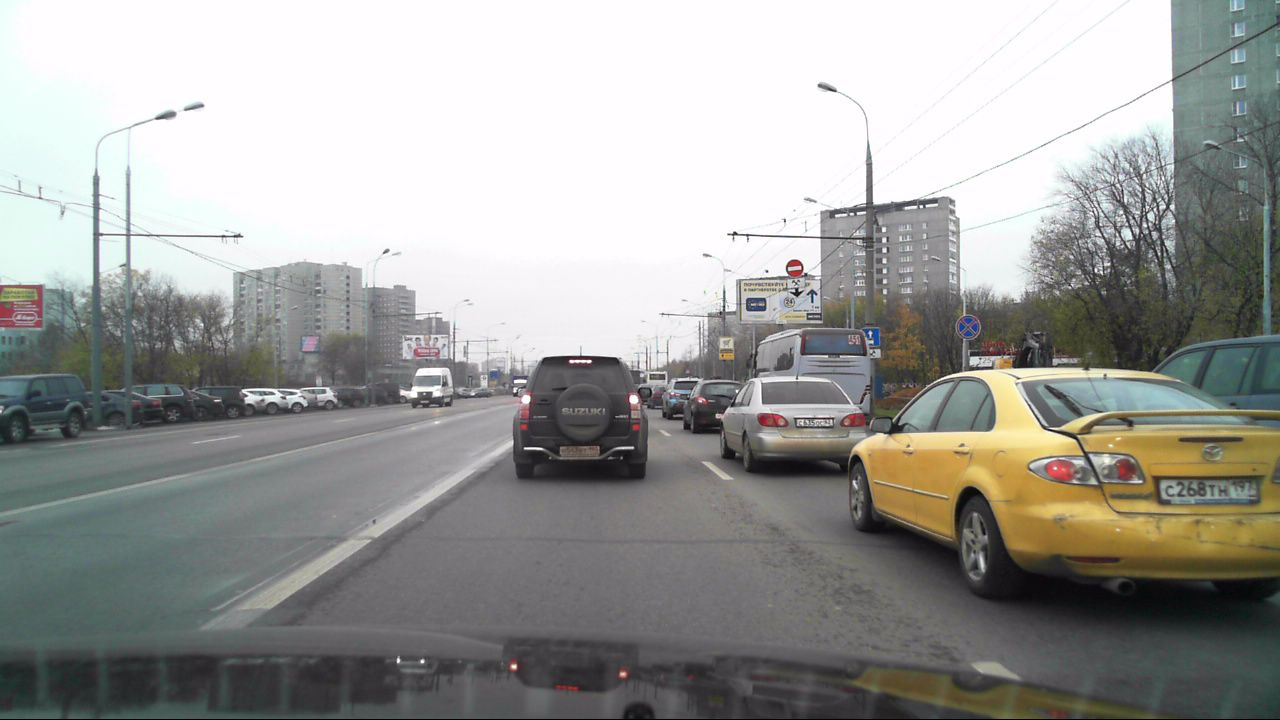No Parking: (955, 314, 981, 341)
